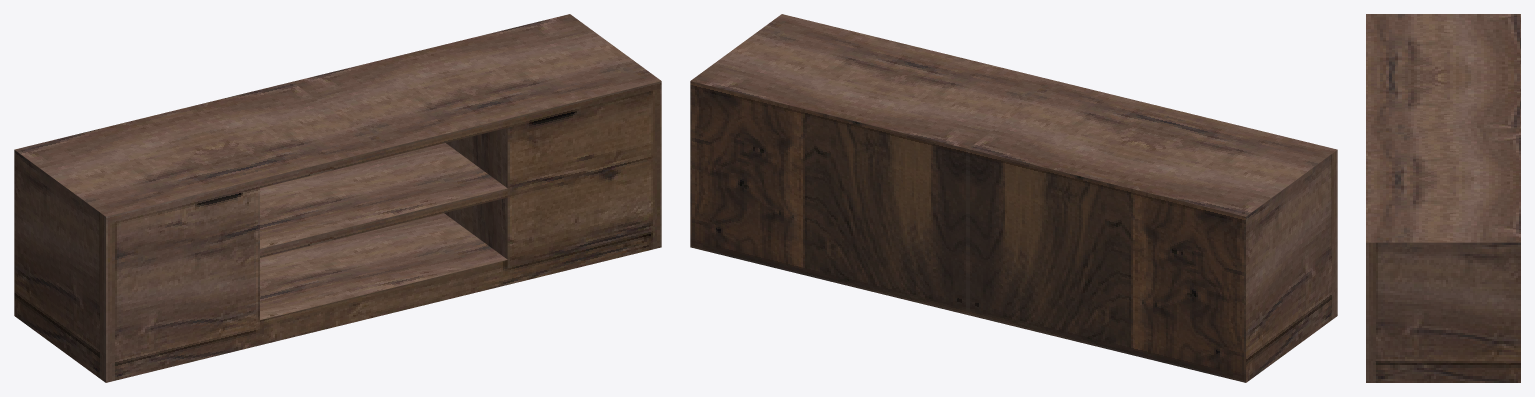
3 renders of one model, left to right at view 1: azimuth 30°, elevation 25°; view 2: azimuth 150°, elevation 25°; view 3: azimuth 270°, elevation 25°, orthographic. The views are drawn at different scales.
Visible parts, largest first — view 1: TVStand; view 2: TVStand; view 3: TVStand.
Part boxes in pixels (x1,y1,x2,y2): TVStand: (14,14,661,382); TVStand: (690,14,1337,382); TVStand: (1366,14,1520,382).
Bounding box in the file's own units: 1.93 × 0.55 × 0.55.
Materials: 1 (1 with a texture image).
